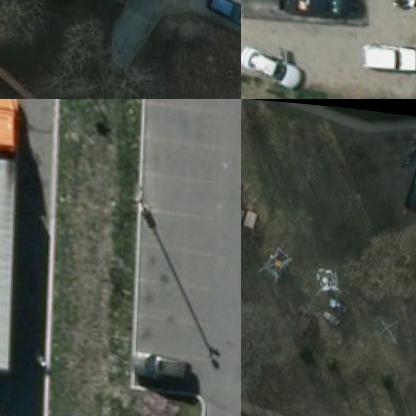car: (241, 42, 304, 91), (136, 344, 190, 380), (362, 36, 415, 71), (398, 149, 415, 214), (205, 0, 240, 15)
pickup: (279, 0, 364, 21)
truck: (0, 99, 19, 376)
